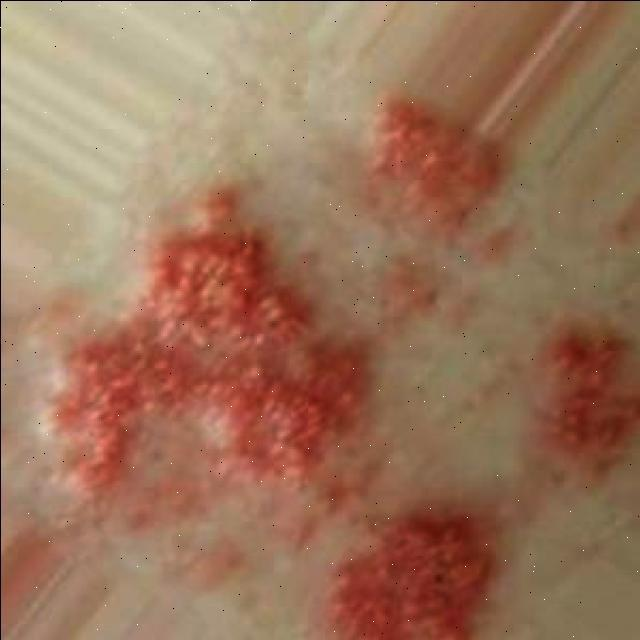Shingles: (45, 186, 362, 497), (328, 507, 497, 639), (362, 90, 508, 238), (524, 313, 639, 481)
